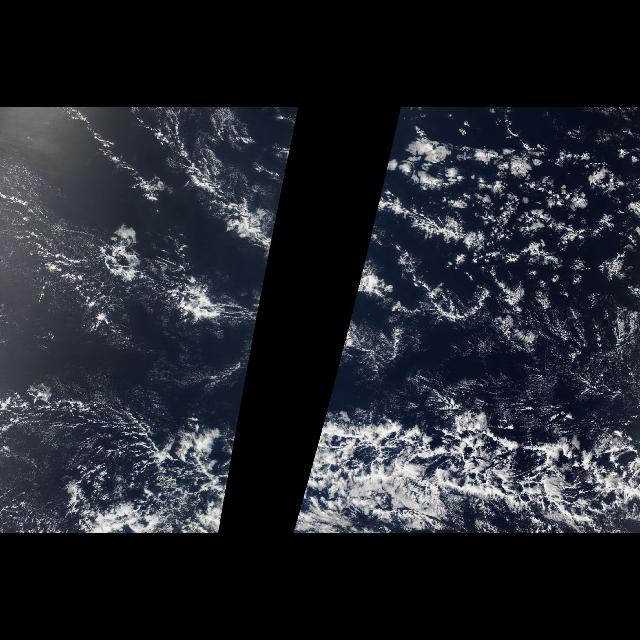Fish: (2, 108, 294, 334), (290, 396, 626, 530)
Flower: (368, 112, 638, 368)
Gravel: (291, 413, 639, 532), (140, 413, 242, 532)
